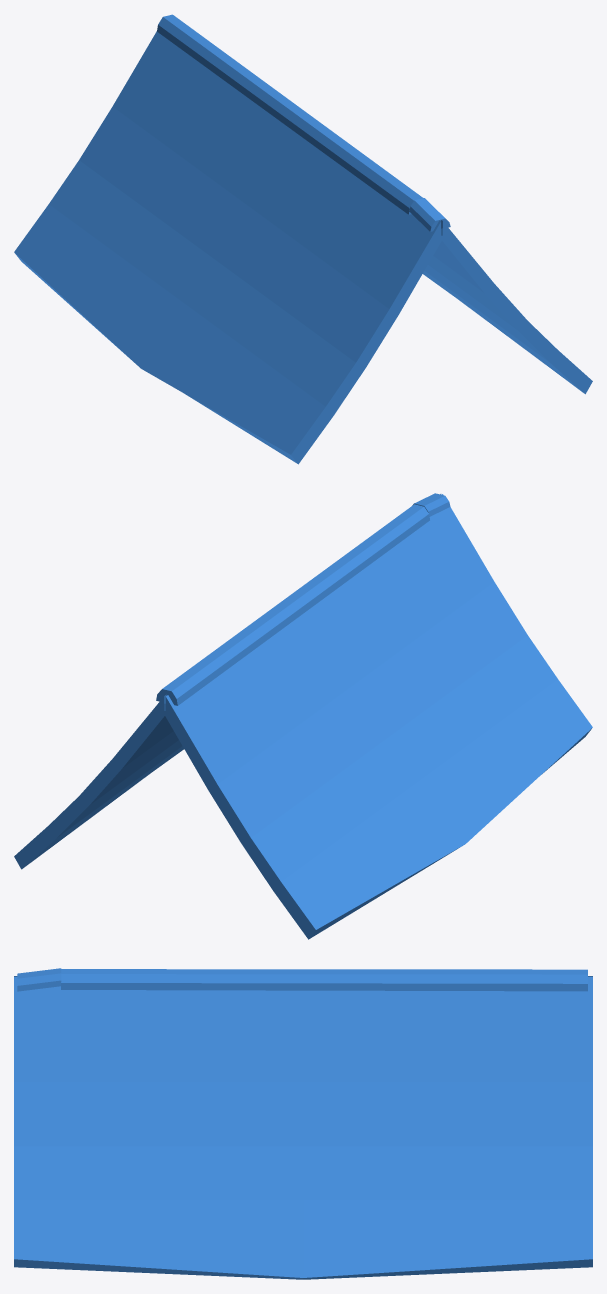
File: Collision_Roof_FlatTiles_8x14.fbx
3 renders of one model, top to bottom at view 1: azimuth 30°, elevation 25°; view 2: azimuth 150°, elevation 25°; view 3: azimuth 270°, elevation 25°, orthographic. The views are drawn at different scales.
Parts seen in each view (by area): view 1: UCX_Roof_FlatTiles_8x14_01; view 2: UCX_Roof_FlatTiles_8x14_01; view 3: UCX_Roof_FlatTiles_8x14_01.
Part boxes in pixels (<box>): UCX_Roof_FlatTiles_8x14_01: <box>14,14,592,464</box>; UCX_Roof_FlatTiles_8x14_01: <box>14,493,592,939</box>; UCX_Roof_FlatTiles_8x14_01: <box>14,968,592,1279</box>.
Size of the model in its own units: 1070 by 696 by 1581.
